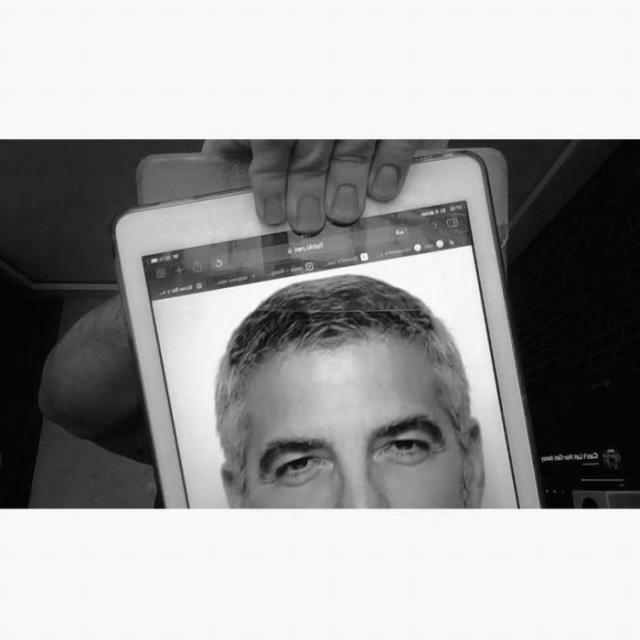fake: (110, 145, 542, 507)
